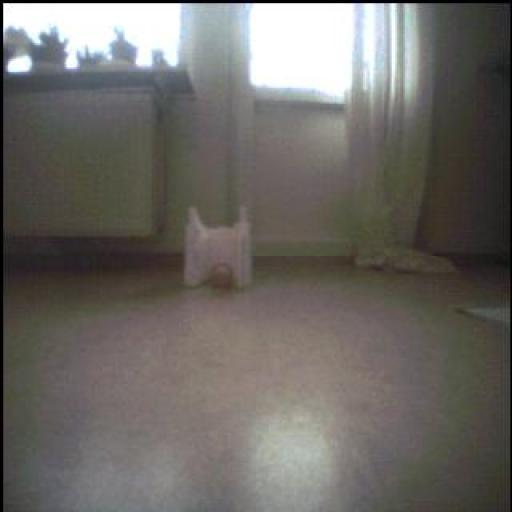Basket: (208, 261, 237, 293)
